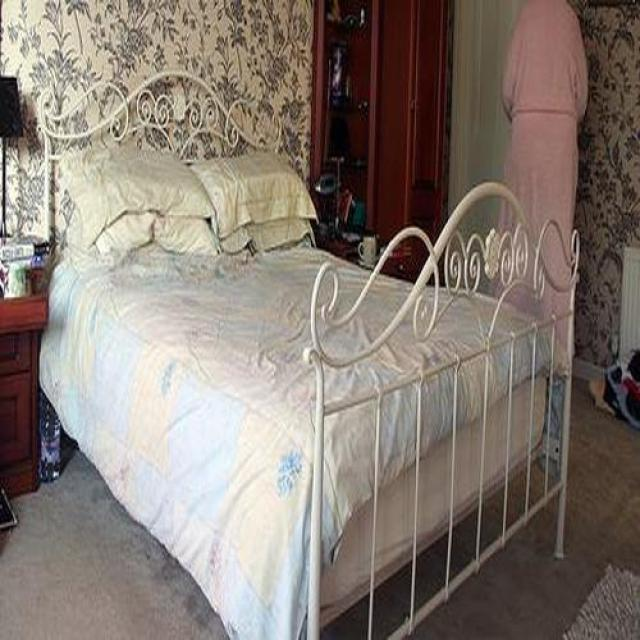bed: (38, 73, 571, 640)
